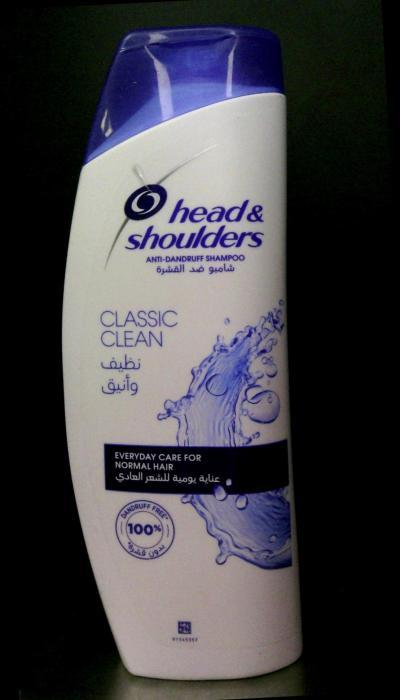tear_unacc: (110, 158, 166, 212)
